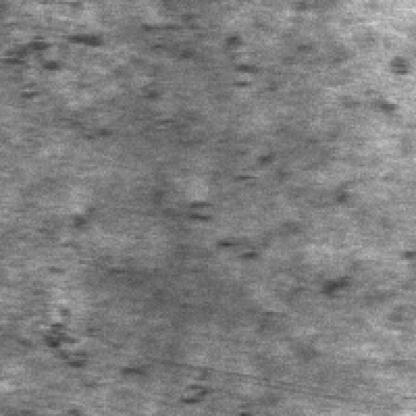rolled-in_scale: (42, 175, 370, 393), (2, 24, 324, 93), (260, 244, 416, 330)
